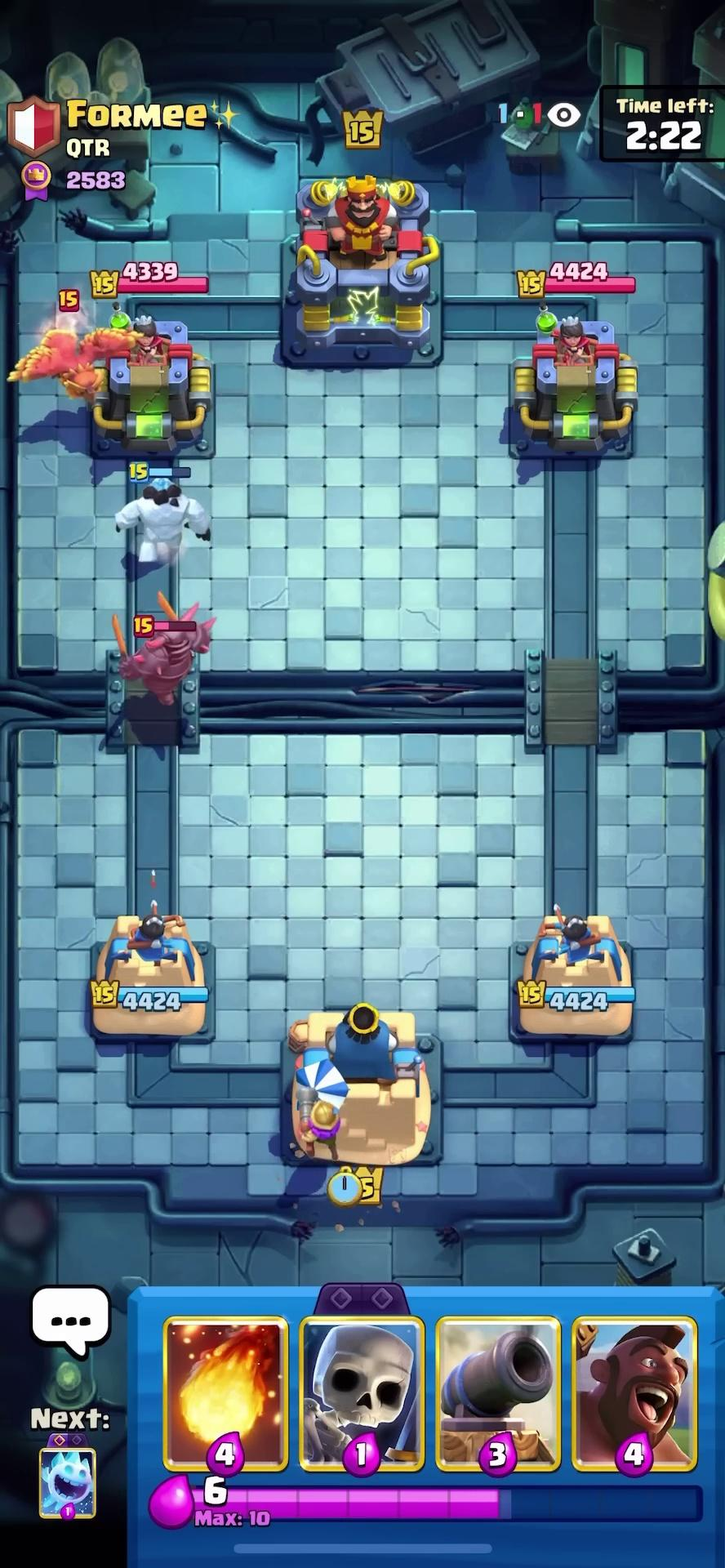ice_golem: (96, 451, 220, 568)
